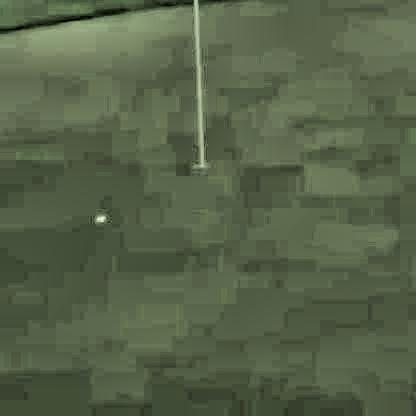golfball: (93, 213, 104, 223)
